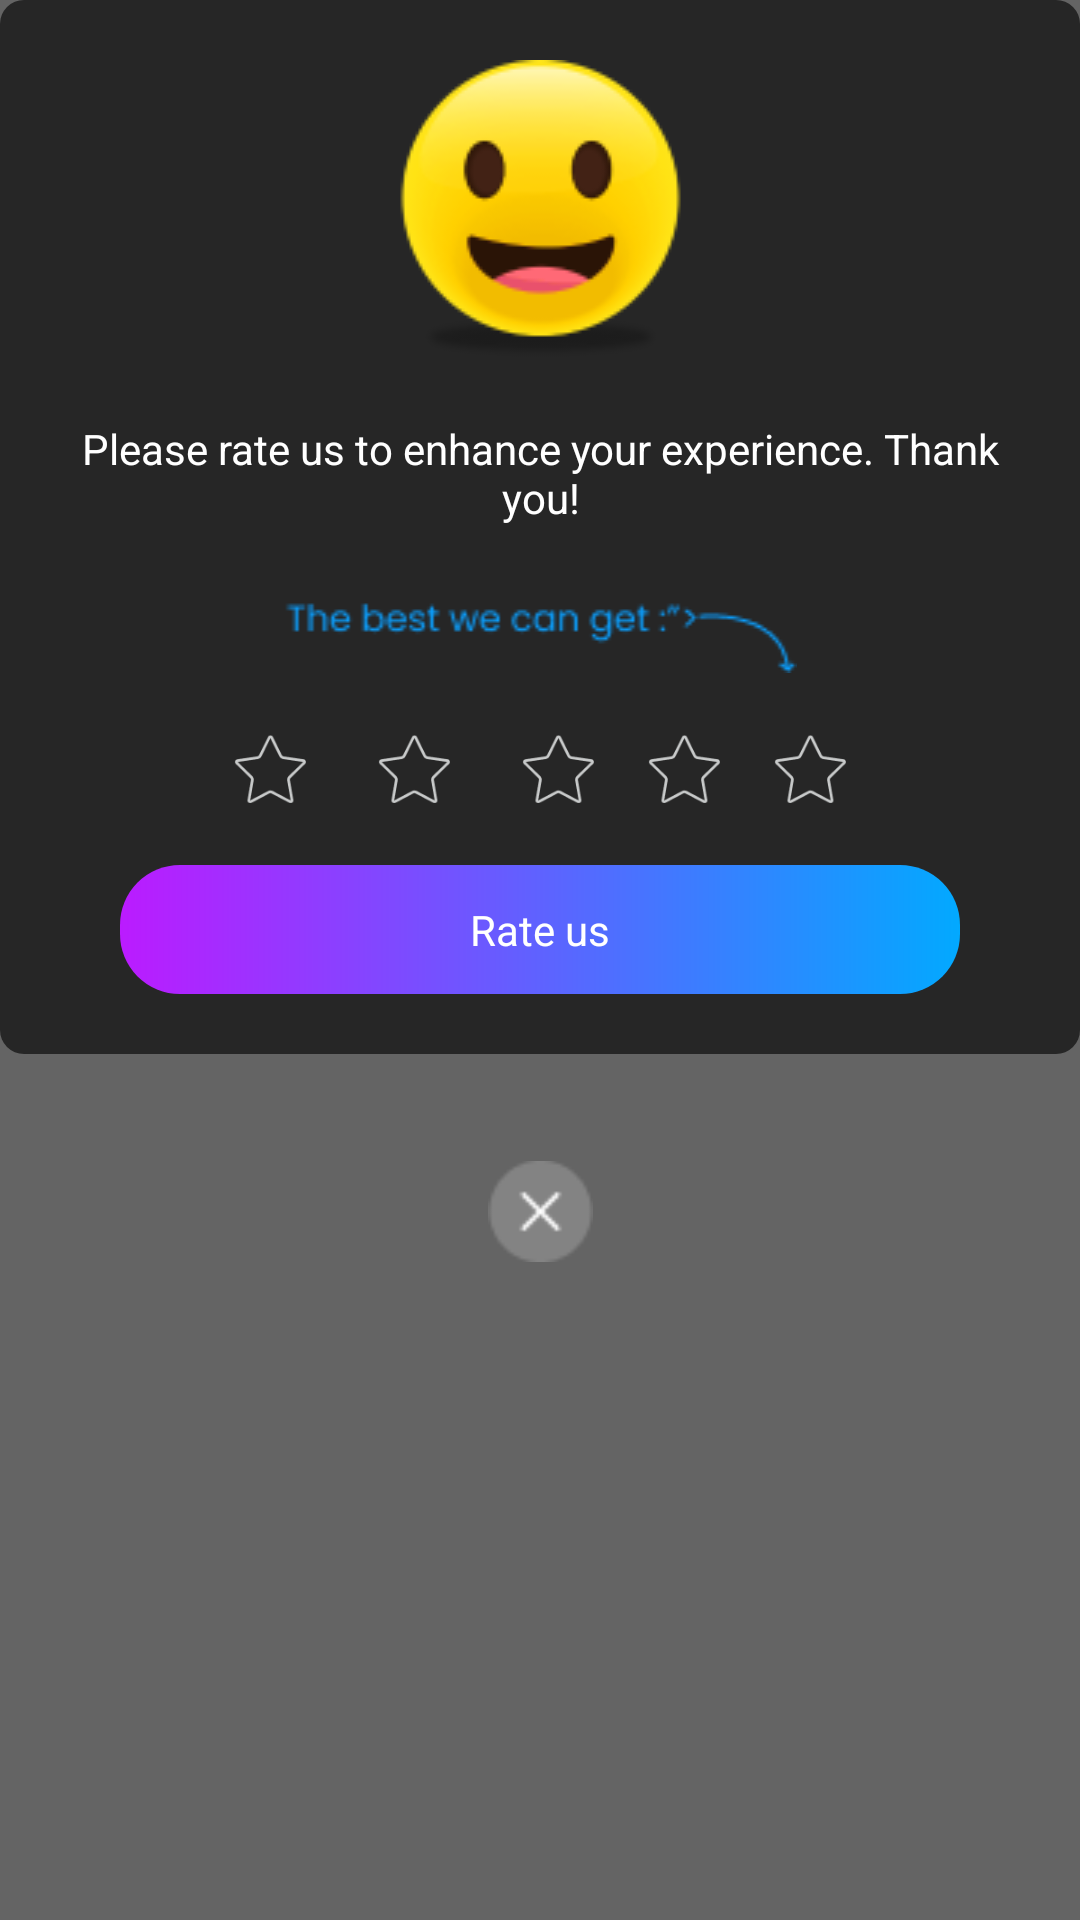

Screen size 1080px×1920px. Icon name, then its center in pixels as (x,y):
close: (540,1211)
emoji: (540,198)
starstar: (270,769), (414,769), (558,769), (684,769), (810,769)
